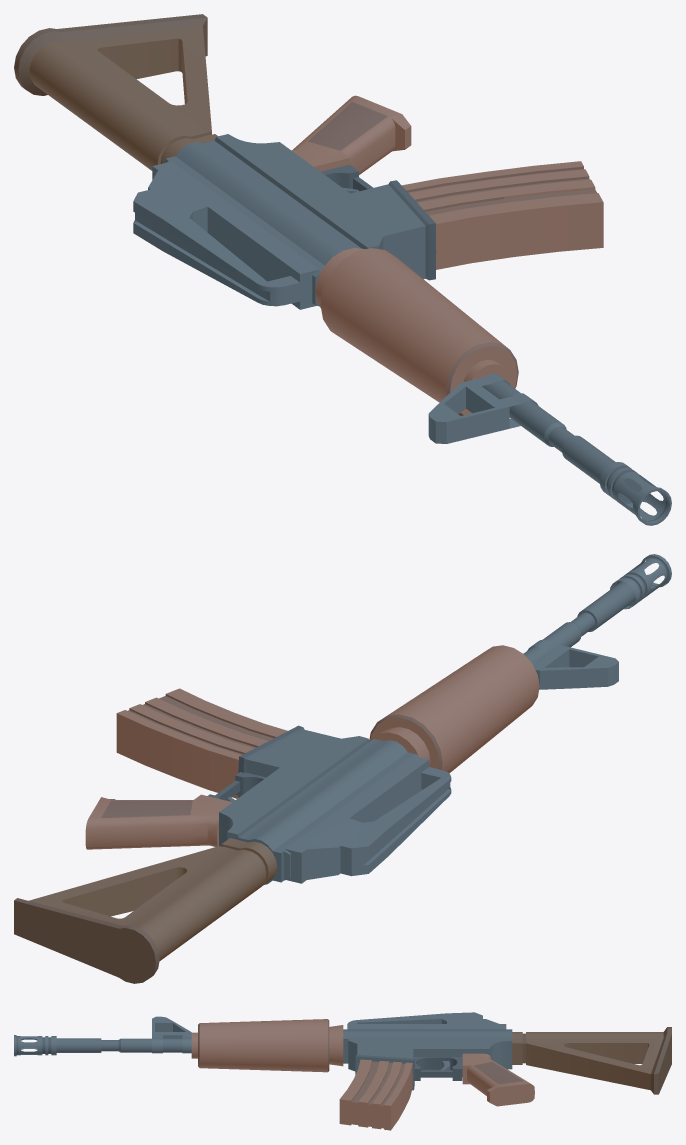
The model's file is RifleAsalto.fbx.
3 renders of one model, top to bottom at view 1: azimuth 30°, elevation 25°; view 2: azimuth 150°, elevation 25°; view 3: azimuth 270°, elevation 25°, orthographic. The views are drawn at different scales.
Parts seen in each view (by area): view 1: MG5; view 2: MG5; view 3: MG5.
Boxes of the visible parts, box(x1,y1,x2,y2) form: MG5: box(14, 14, 671, 525); MG5: box(14, 554, 671, 983); MG5: box(14, 1012, 671, 1130).
Bounding box in the file's own units: 159 × 36.31 × 453.
